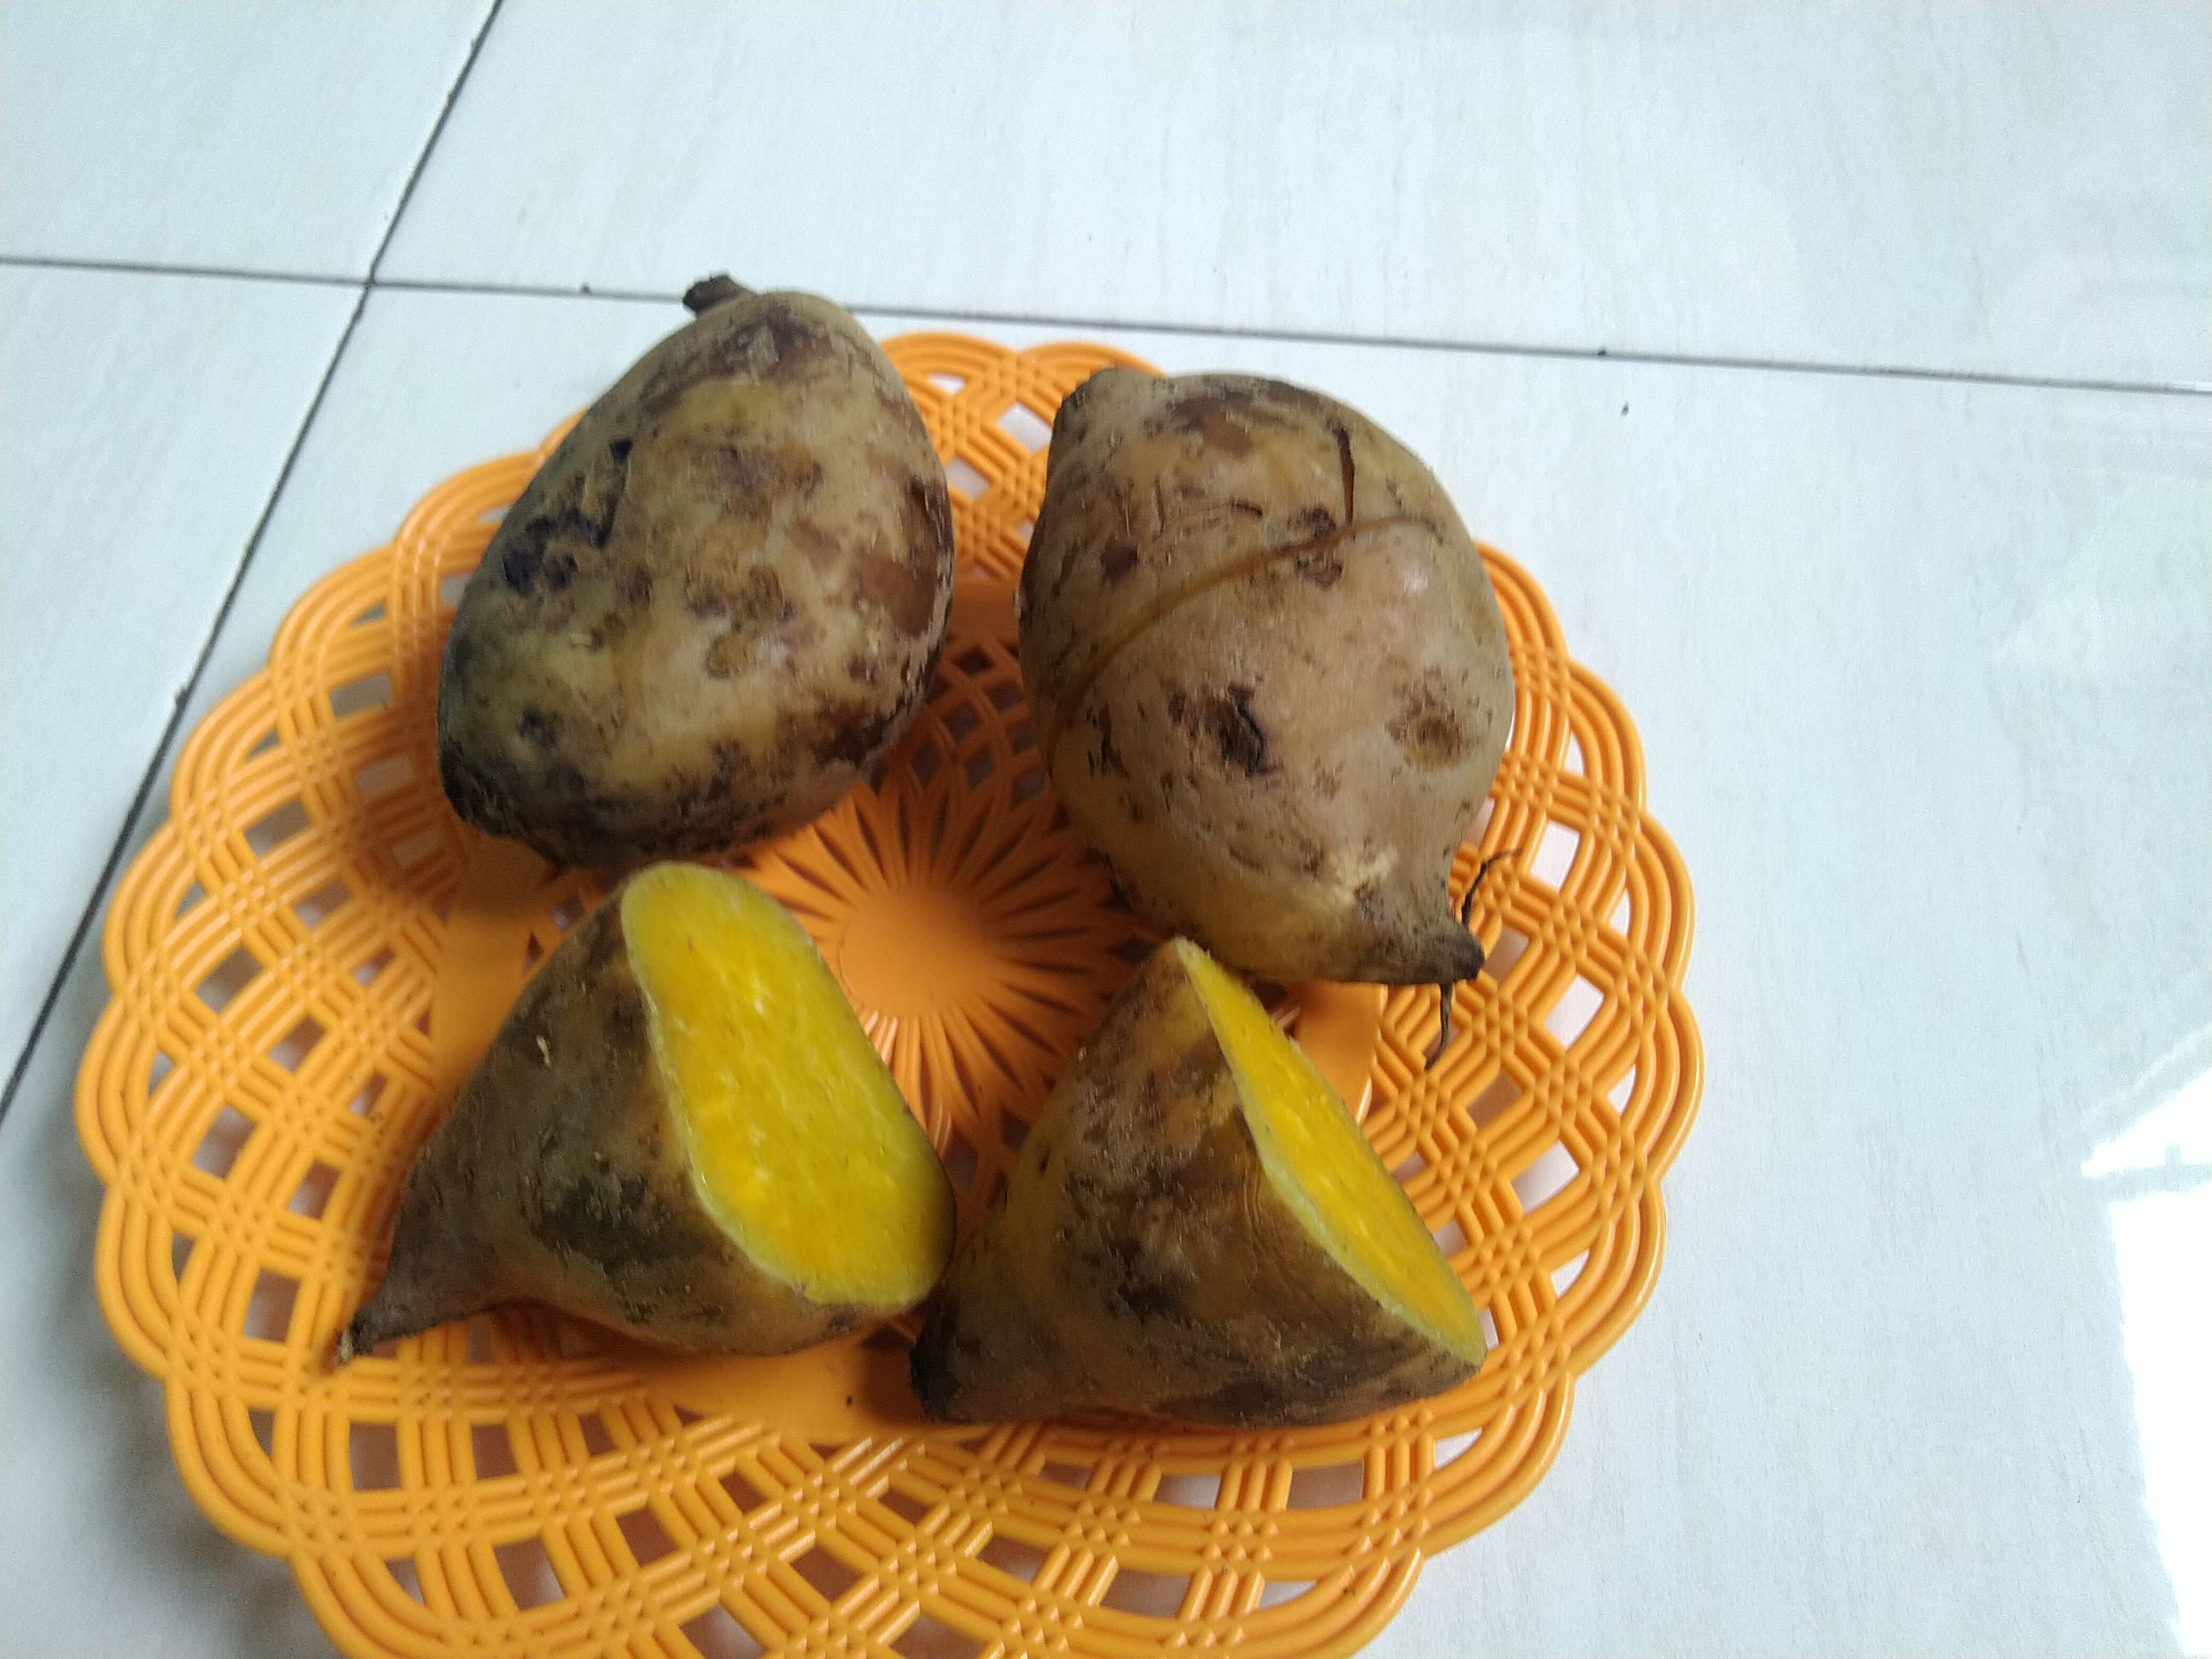ubi kuning: (366, 211, 1573, 988), (329, 849, 1557, 1500), (1010, 333, 1550, 1014), (320, 842, 949, 1425), (918, 922, 1541, 1480), (385, 261, 965, 849)
